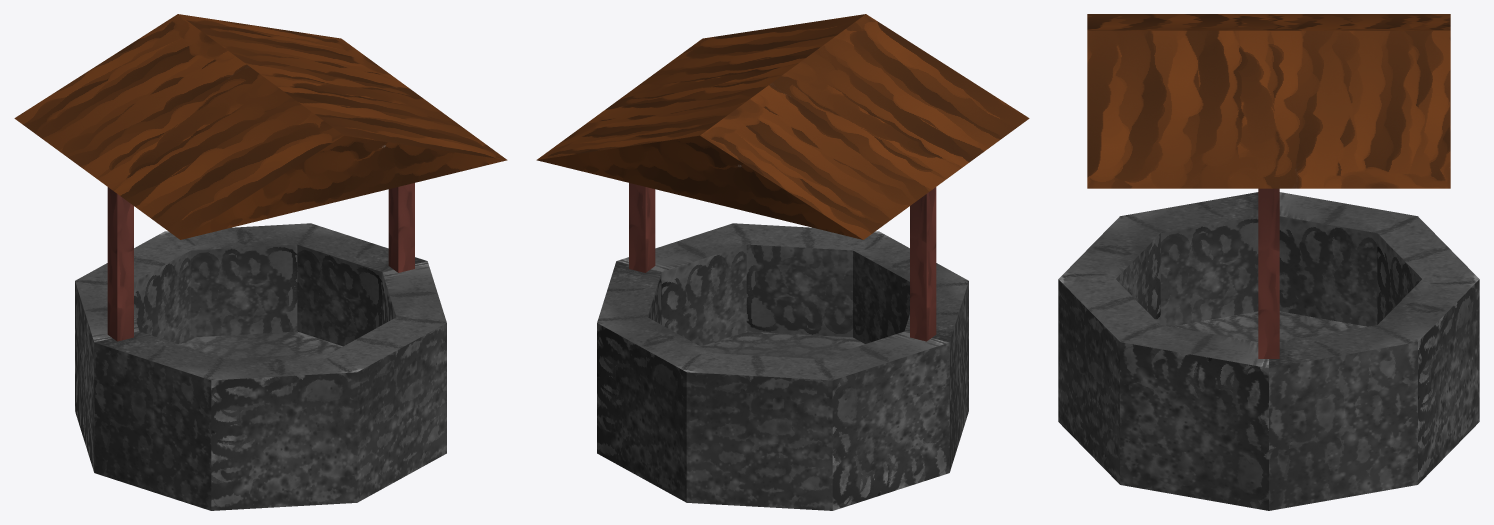
File: well.obj
The picture shows the model from 3 angles, left to right: view 1: azimuth 30°, elevation 25°; view 2: azimuth 150°, elevation 25°; view 3: azimuth 270°, elevation 25°; orthographic projection. The views are drawn at different scales.
Parts seen in each view (by area): view 1: Cube.001_Cube.003; view 2: Cube.001_Cube.003; view 3: Cube.001_Cube.003.
Part boxes in pixels (left/top/right/bottom): Cube.001_Cube.003: left=14, top=14, right=507, bottom=510; Cube.001_Cube.003: left=536, top=14, right=1029, bottom=510; Cube.001_Cube.003: left=1058, top=14, right=1479, bottom=510.
Bounding box in the file's own units: 0.9868 × 1.01 × 0.9868.
Materials: 1 (1 with a texture image).
